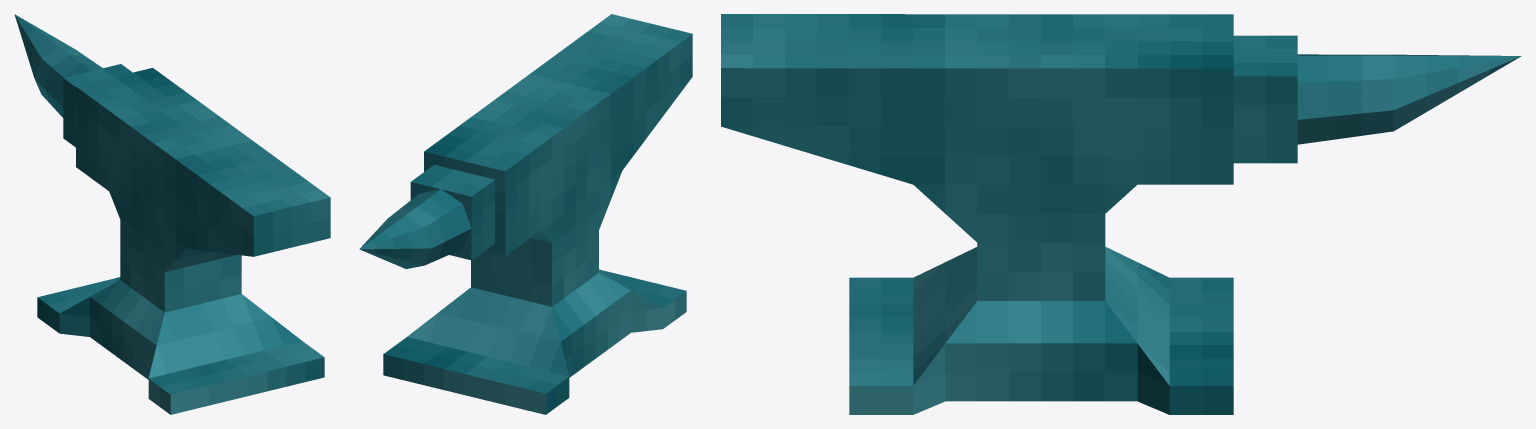
File: anvil_saturnite.obj
3 views of the same model, side by side, from view 1: azimuth 30°, elevation 25°; view 2: azimuth 150°, elevation 25°; view 3: azimuth 270°, elevation 25° (orthographic). The views are drawn at different scales.
Parts seen in each view (by area): view 1: Left, Top, Back; view 2: Left, Top, Front; view 3: Right, Top, Front, Back.
Part boxes in pixels (x1=…): Left: x1=15, y1=15, x2=253, y2=414; Top: x1=14, y1=14, x2=330, y2=394; Back: x1=148, y1=197, x2=330, y2=414; Left: x1=360, y1=34, x2=692, y2=414; Top: x1=360, y1=14, x2=692, y2=393; Front: x1=383, y1=151, x2=569, y2=414; Right: x1=721, y1=56, x2=1520, y2=414; Top: x1=721, y1=14, x2=1520, y2=385; Front: x1=1105, y1=247, x2=1169, y2=385; Back: x1=913, y1=247, x2=977, y2=385.
Size of the model in its own units: 0.5 by 0.6885 by 1.56.
